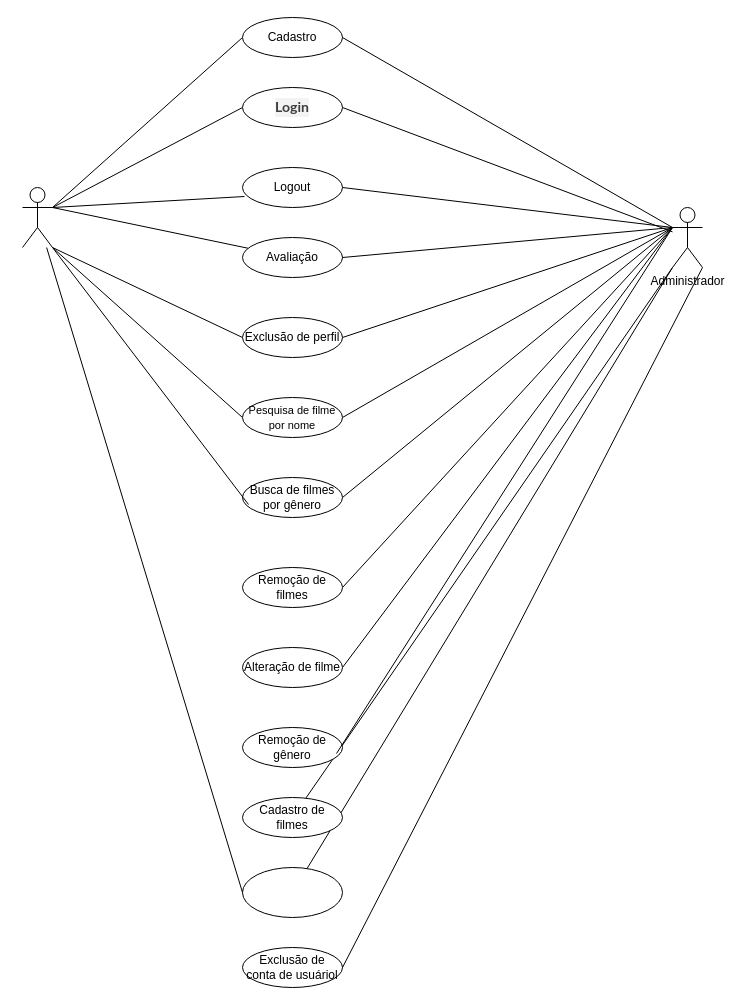
The diagram is 742 pixels wide and 1005 high, and some of its shapes have lost their labels. Here are the shapes that lost their labels. From the top down, the centre of each, then its label:
At [37,217]: "Usuário".
At [292,892]: "Assistir trailer".
